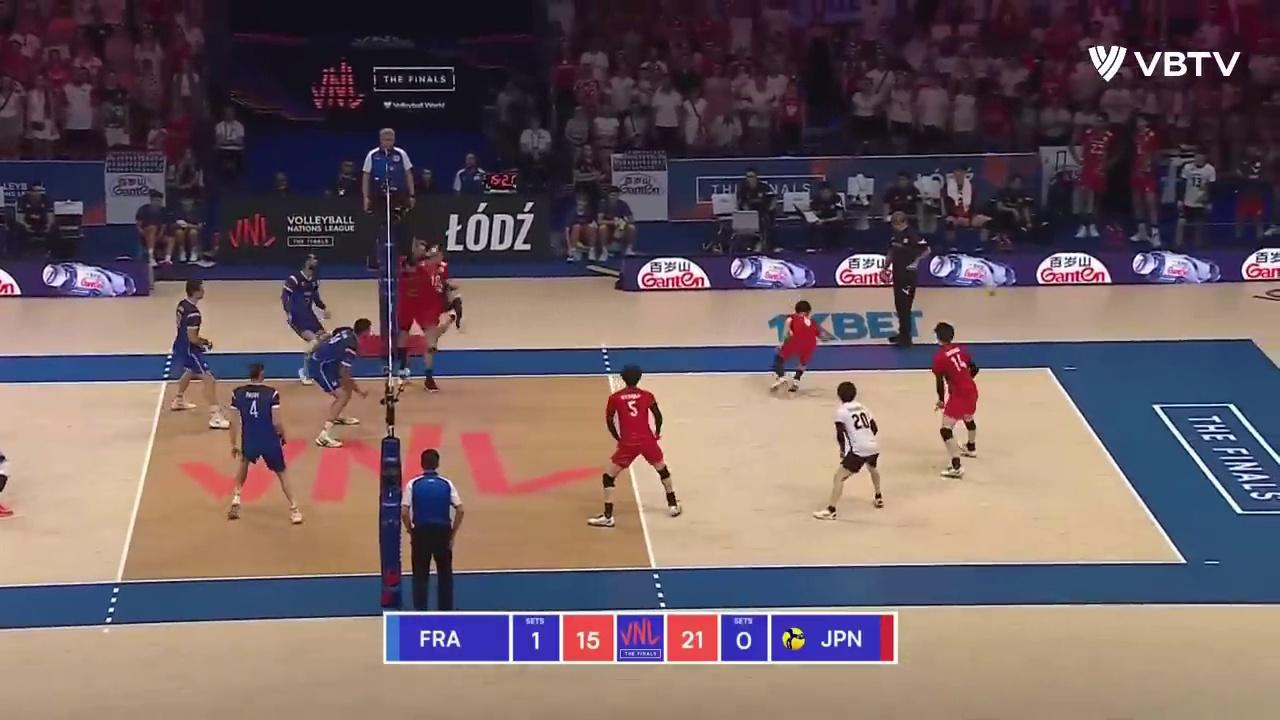ball: (988, 287, 998, 297)
